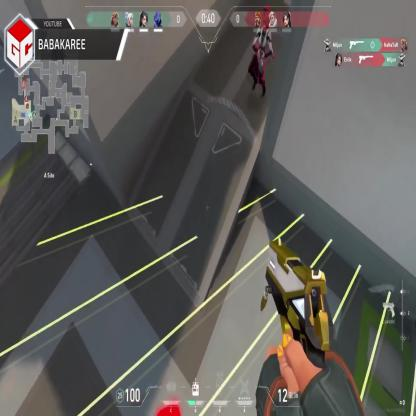enemy: (248, 5, 274, 104)
enemy_head: (258, 6, 270, 33)
